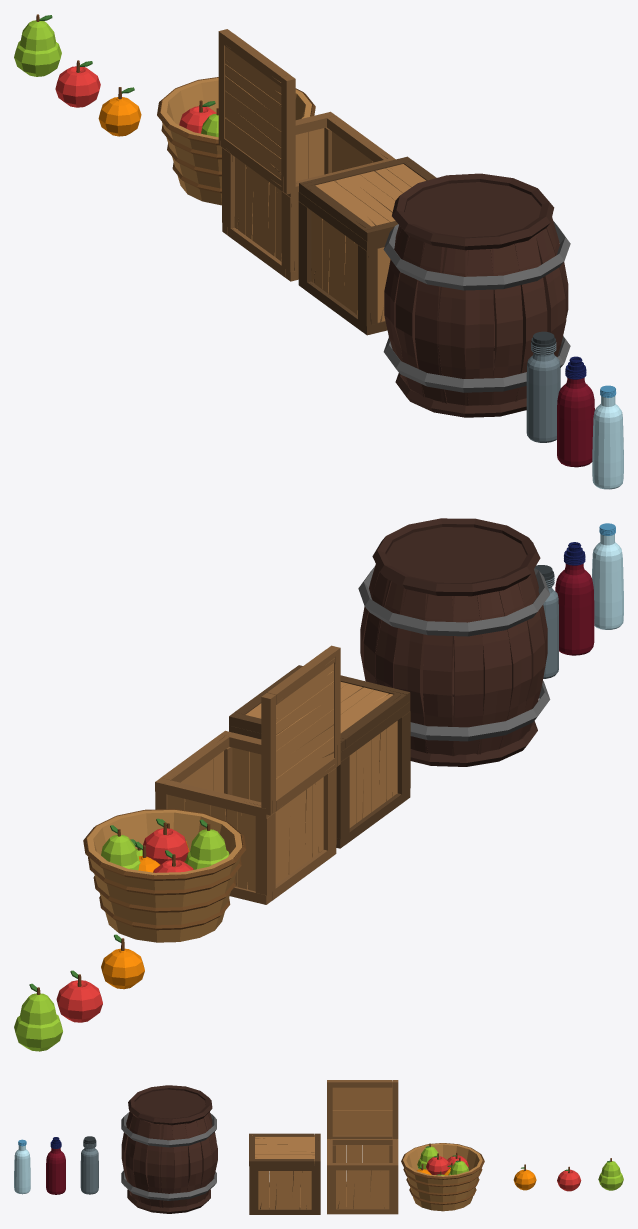
Rendered from kit.fbx.
3 views of the same model, one above another, from view 1: azimuth 30°, elevation 25°; view 2: azimuth 150°, elevation 25°; view 3: azimuth 270°, elevation 25° (orthographic). The views are drawn at different scales.
Visible parts, largest first — view 1: Barrel, WoodenCrate1, Barrel.001, WoodenCrateLid1, WoodenCrate, WoodenCrateLid2, Basket.003, WaterBottle, Thermos, PETWaterBottle, Pear, Apple (+2 smaller); view 2: Barrel, WoodenCrate1, Basket.003, Barrel.001, WoodenCrateLid1, WoodenCrate, WoodenCrateLid2, WaterBottle, PETWaterBottle, Pear, Apple, Orange (+4 smaller); view 3: Barrel, WoodenCrate1, WoodenCrateLid1, Basket.003, WoodenCrate, Barrel.001, WoodenCrateLid2, WaterBottle, Thermos, PETWaterBottle, Pear, Apple (+4 smaller).
Part boxes in pixels (x1,y1,x2,y2): Barrel: (383, 217, 570, 417); WoodenCrate1: (222, 111, 395, 281); Barrel.001: (392, 173, 554, 250); WoodenCrateLid1: (218, 29, 295, 194); WoodenCrate: (298, 192, 390, 335); WoodenCrateLid2: (299, 156, 436, 242); Basket.003: (157, 77, 315, 205); WaterBottle: (557, 378, 594, 467); Thermos: (526, 353, 560, 442); PETWaterBottle: (592, 396, 623, 489); Pear: (14, 14, 61, 76); Apple: (55, 60, 100, 107); Barrel: (358, 564, 550, 766); WoodenCrate1: (155, 730, 336, 904); Basket.003: (83, 809, 246, 942); Barrel.001: (372, 518, 540, 596); WoodenCrateLid1: (261, 645, 340, 815); WoodenCrate: (229, 702, 410, 848); WoodenCrateLid2: (229, 665, 410, 751); WaterBottle: (555, 563, 594, 655); PETWaterBottle: (592, 534, 623, 629); Pear: (14, 983, 62, 1051); Apple: (56, 970, 102, 1022); Orange: (101, 934, 144, 989); Barrel: (121, 1111, 217, 1213); WoodenCrate1: (327, 1138, 398, 1214); WoodenCrateLid1: (327, 1080, 398, 1139); Basket.003: (401, 1143, 484, 1211); WoodenCrate: (249, 1164, 320, 1214); Barrel.001: (128, 1085, 212, 1125); WoodenCrateLid2: (249, 1133, 320, 1166); WaterBottle: (46, 1148, 65, 1194); Thermos: (80, 1147, 98, 1194); PETWaterBottle: (14, 1145, 30, 1194); Pear: (598, 1158, 623, 1190); Apple: (557, 1166, 581, 1191).
Bounding box in the file's own units: 9.33 × 10.61 × 54.94.
